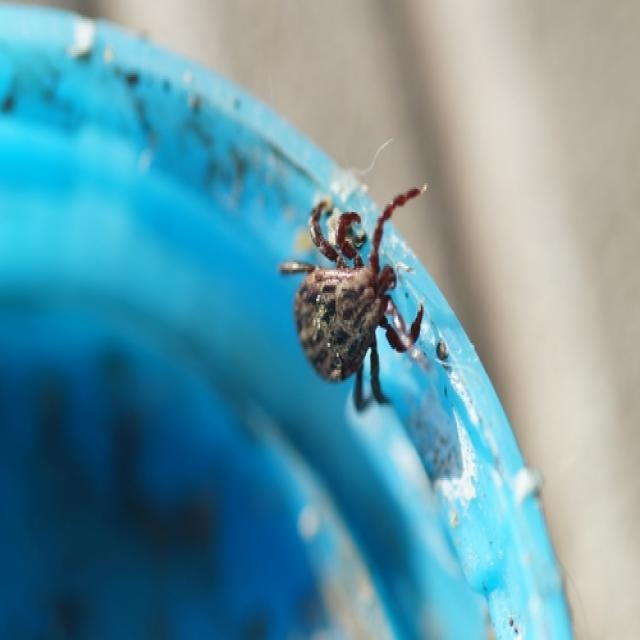Dermacentor Reticulatus-M: (279, 189, 425, 413)
